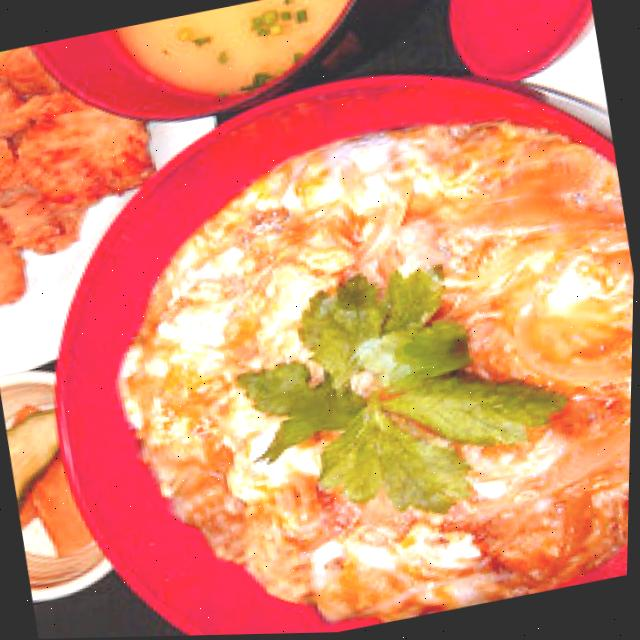米饭主食: (129, 0, 640, 638)
